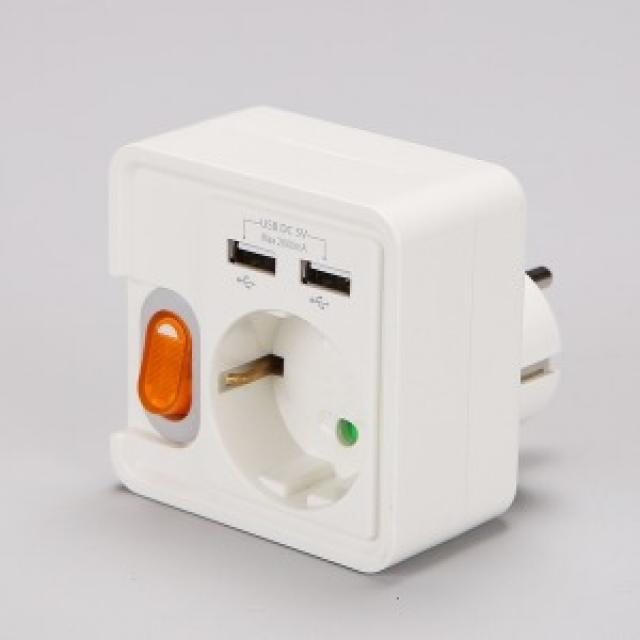typeb: (101, 71, 595, 579)
